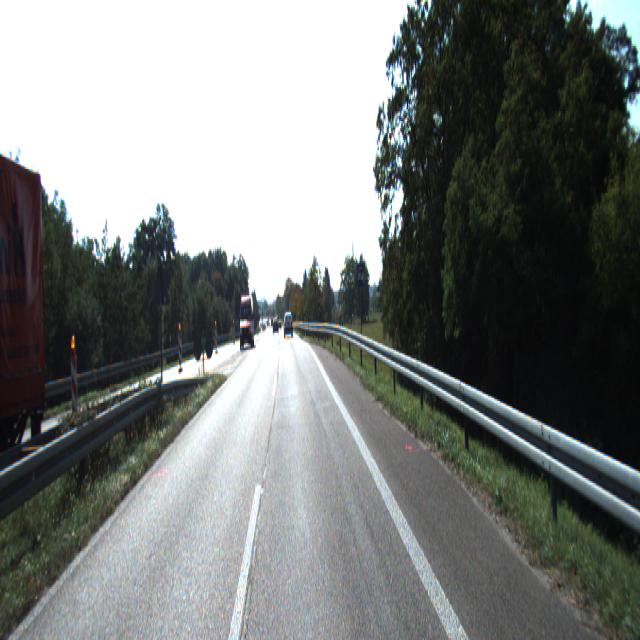Car: (0, 107, 61, 494), (239, 294, 255, 352), (284, 313, 293, 337)
